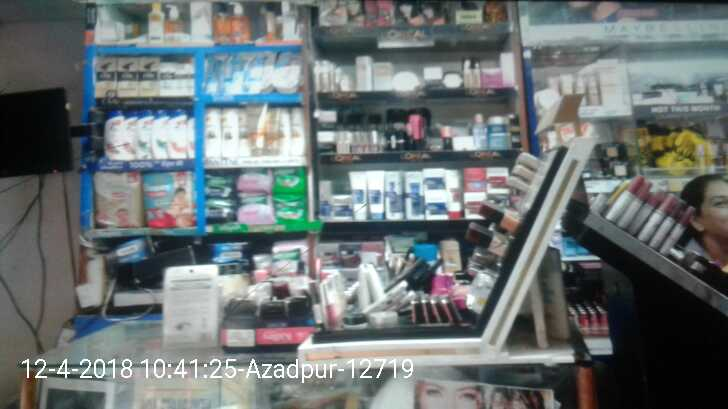venus: (275, 52, 301, 94), (247, 52, 271, 94), (225, 52, 243, 95), (204, 53, 221, 94)
